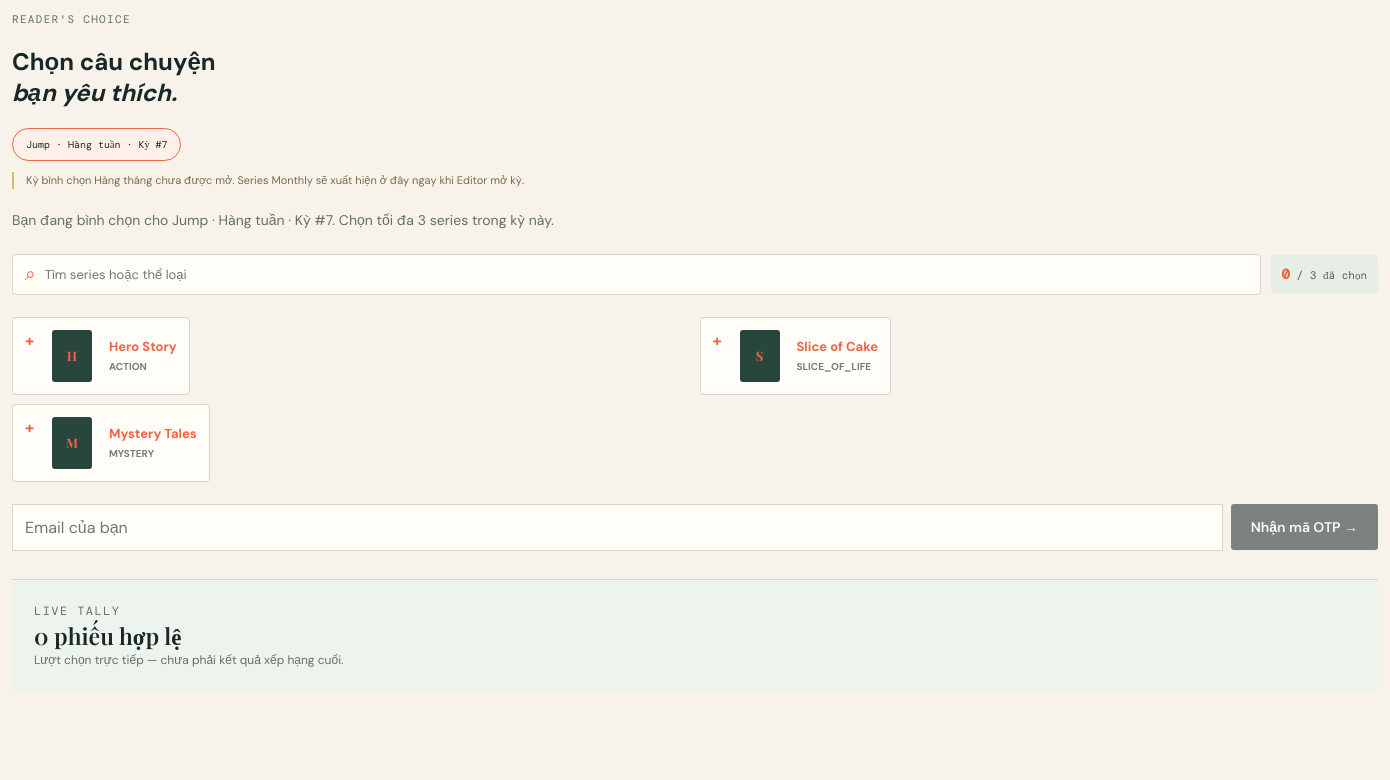
Test: VotePanel › validates email format before sending OTP
The image size is (1390, 780).
Expected: the text "Hero Story" is shown, [109,338,177,355]
// Chọn 1 series.
Click the button "+ H Hero Story ACTION" at {"x": 101, "y": 356}, box [12,317,190,395]
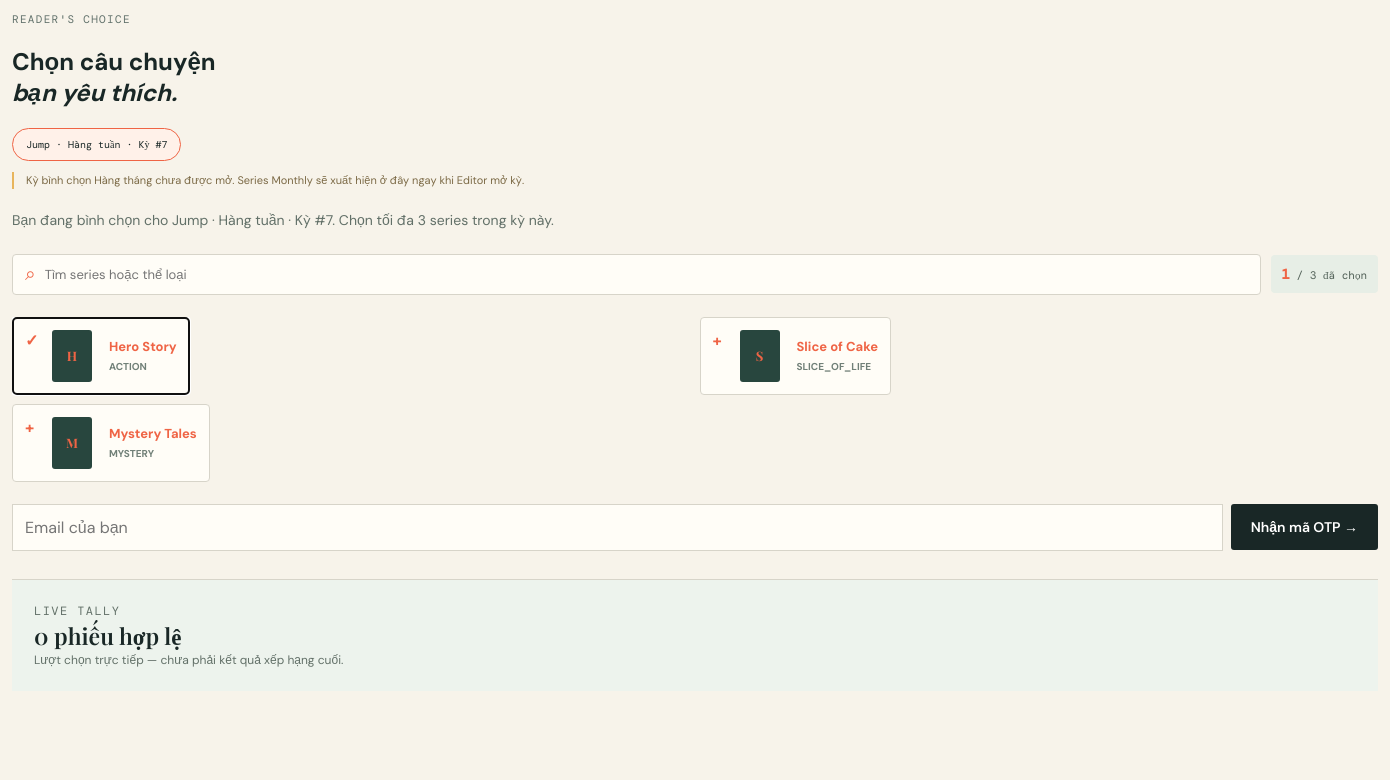
// Nhập email sai format.
Type "not-an-email" into the field with placeholder "Email của bạn" at {"x": 617, "y": 527}, box [12,504,1223,551]
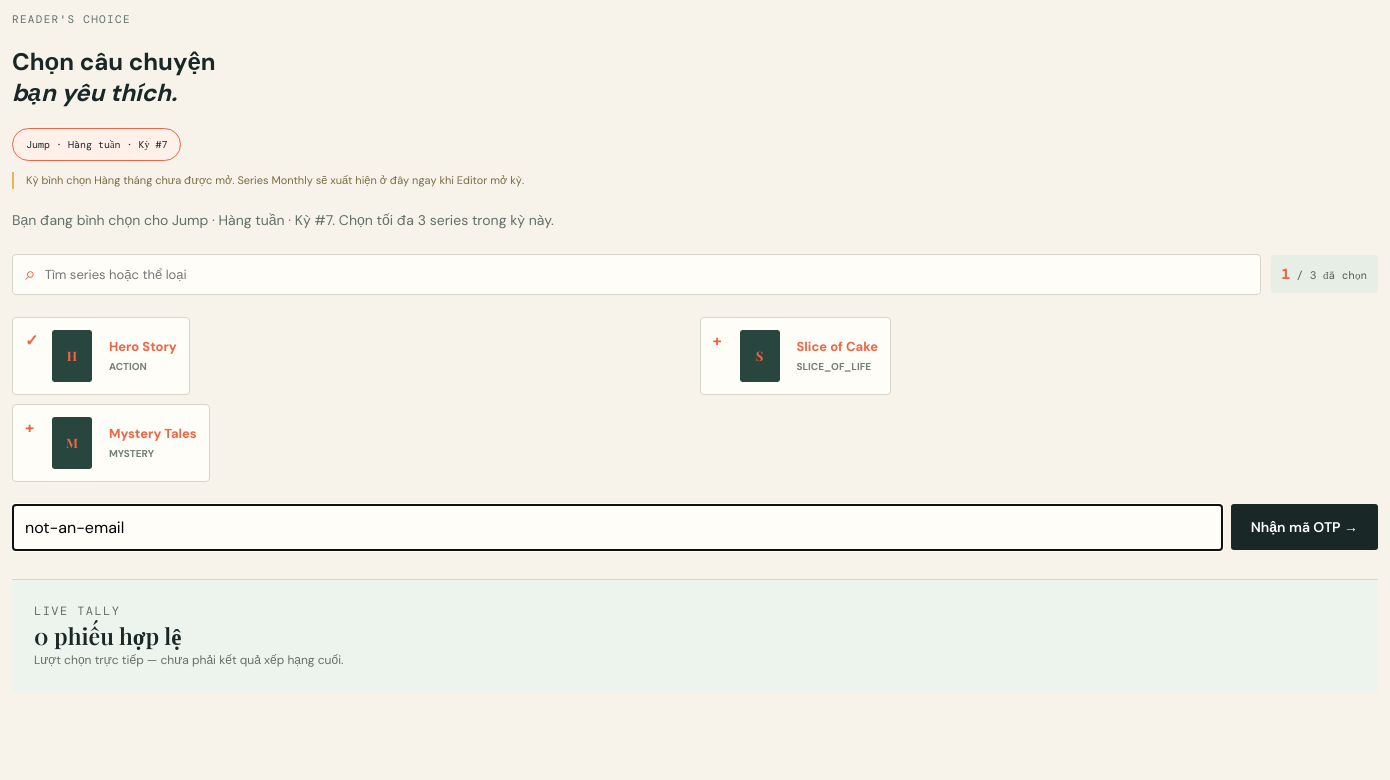
// Bấm "Nhận mã OTP".
Click the button "Nhận mã OTP →" at {"x": 1304, "y": 527}, box [1231,504,1378,550]
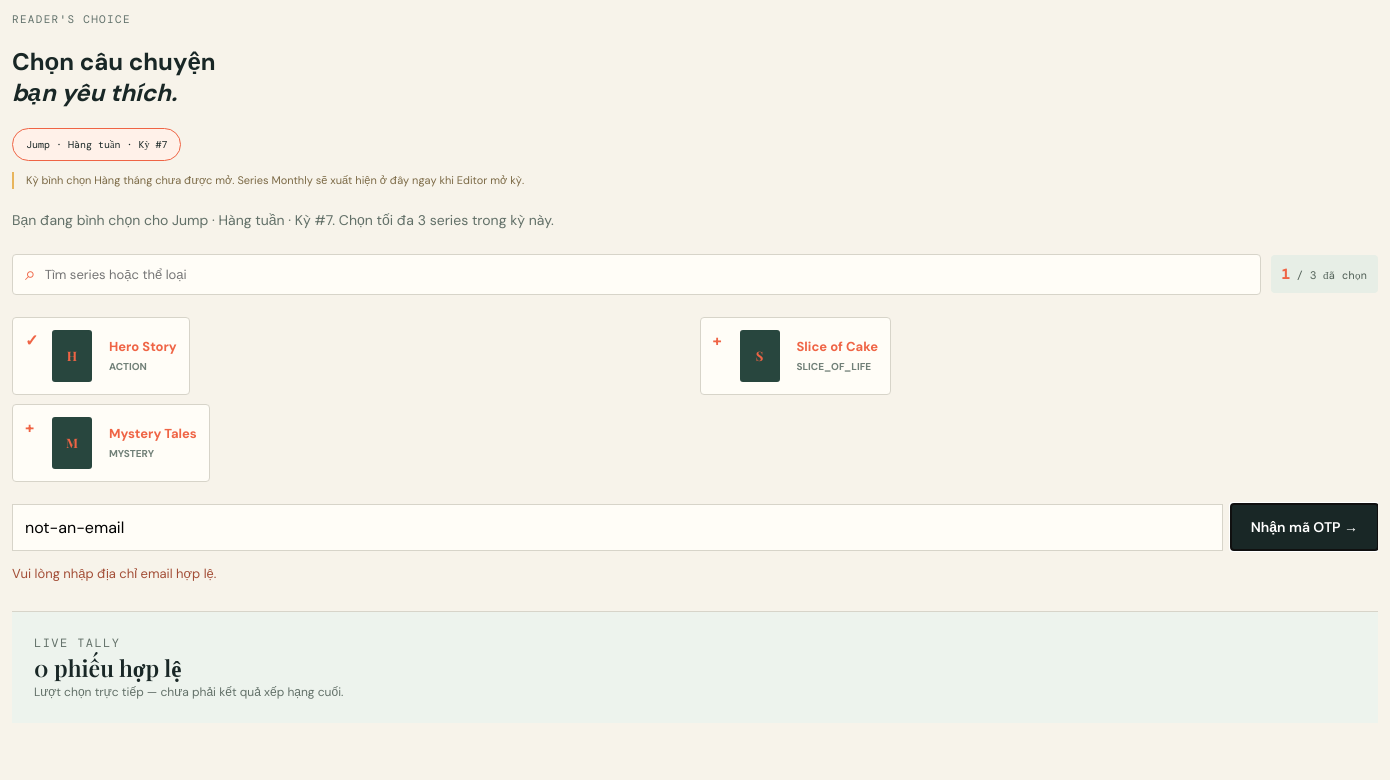
Now the text "Vui lòng nhập địa chỉ email hợp lệ." is shown, box [12,565,216,582]
